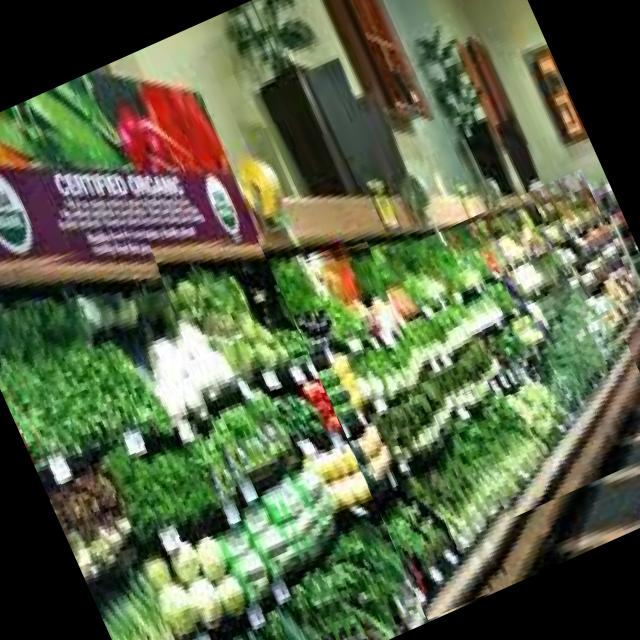Organic: (0, 214, 337, 640), (163, 224, 428, 640), (274, 232, 518, 620), (378, 168, 640, 403), (445, 324, 640, 524)
